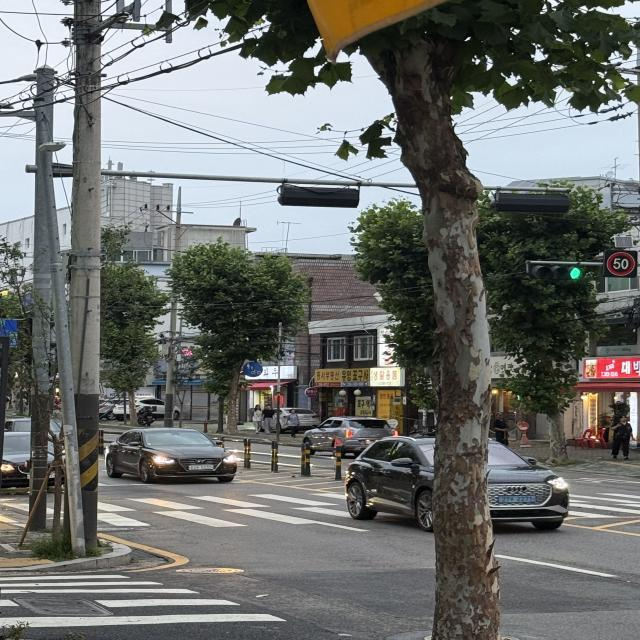car: (333, 428, 585, 542), (100, 420, 258, 493), (0, 428, 103, 496), (292, 412, 403, 462)
